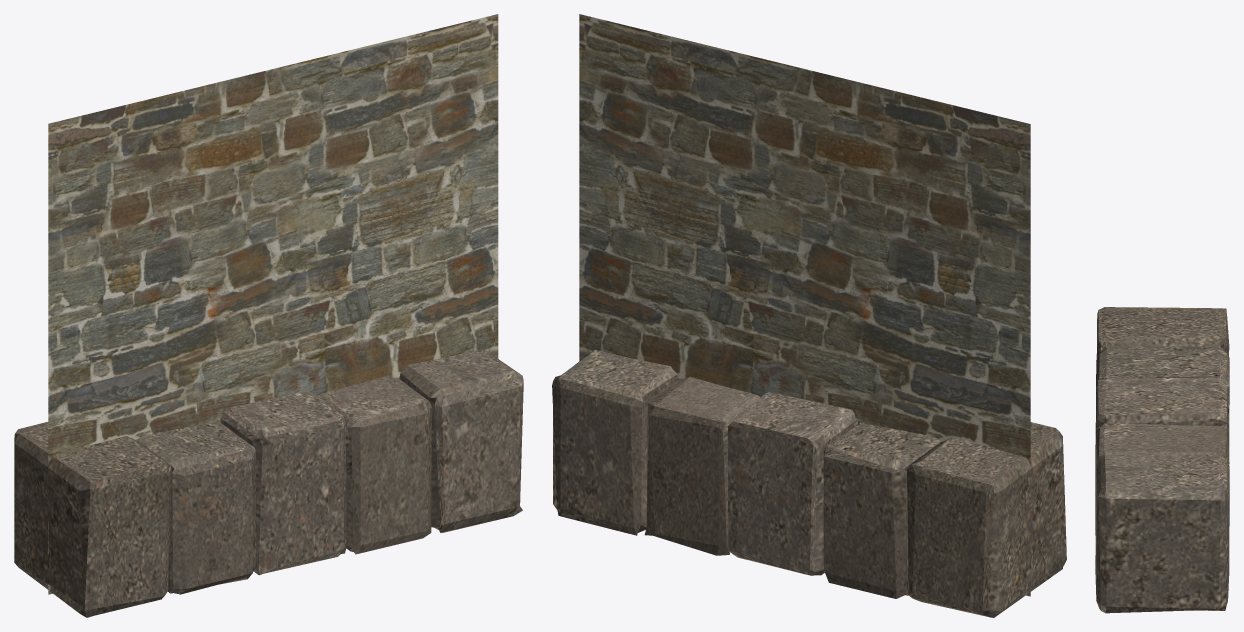
Rendered from appearance.glb.
3 renders of one model, left to right at view 1: azimuth 30°, elevation 25°; view 2: azimuth 150°, elevation 25°; view 3: azimuth 270°, elevation 25°, orthographic. The views are drawn at different scales.
Visible parts, largest first — view 1: Surface, Capstone01, Capstone03, Capstone05, Capstone04, Capstone02; view 2: Surface, Capstone01, Capstone03, Capstone05, Capstone02, Capstone04; view 3: Capstone05, Capstone03, Capstone01, Capstone02, Capstone04.
Part boxes in pixels (x1=…): Surface: x1=48, y1=14, x2=498, y2=594; Capstone01: x1=14, y1=422, x2=171, y2=617; Capstone03: x1=220, y1=390, x2=347, y2=575; Capstone05: x1=399, y1=348, x2=523, y2=532; Capstone04: x1=318, y1=375, x2=431, y2=554; Capstone02: x1=136, y1=421, x2=256, y2=594; Surface: x1=579, y1=14, x2=1030, y2=596; Capstone01: x1=907, y1=422, x2=1066, y2=617; Capstone03: x1=728, y1=392, x2=857, y2=575; Capstone05: x1=552, y1=349, x2=678, y2=535; Capstone02: x1=823, y1=422, x2=942, y2=598; Capstone04: x1=644, y1=377, x2=759, y2=555; Capstone05: x1=1095, y1=454, x2=1229, y2=613; Capstone03: x1=1097, y1=376, x2=1229, y2=525; Capstone01: x1=1096, y1=307, x2=1229, y2=358; Capstone02: x1=1095, y1=346, x2=1229, y2=456; Capstone04: x1=1095, y1=423, x2=1229, y2=535.
Size of the model in its own units: 1 by 1 by 0.2957.
Materials: 2 (2 with a texture image).
